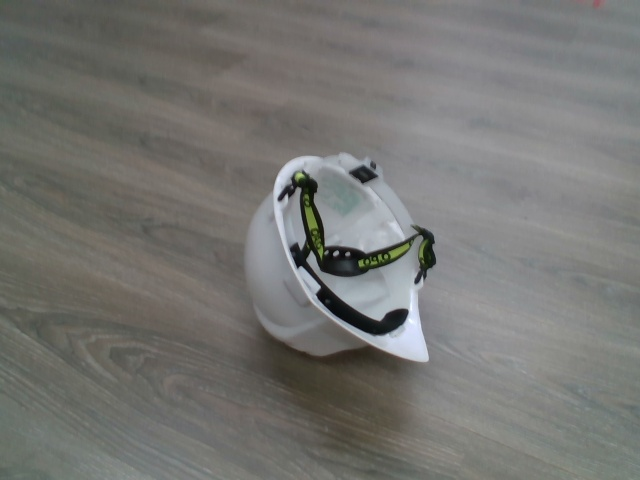helmet: (239, 149, 445, 371)
